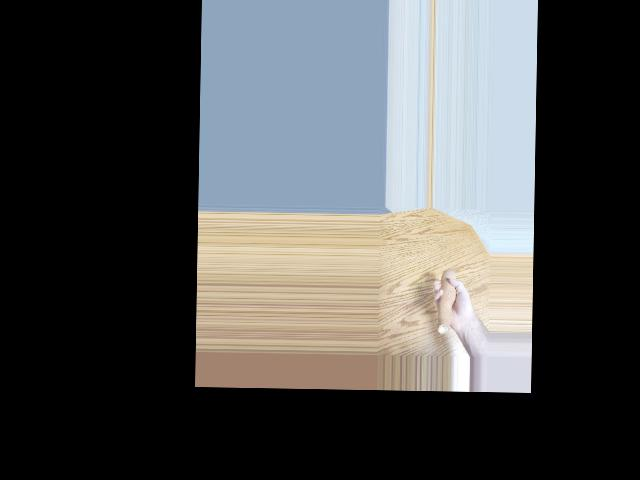sweet_potato: (435, 265, 452, 336)
